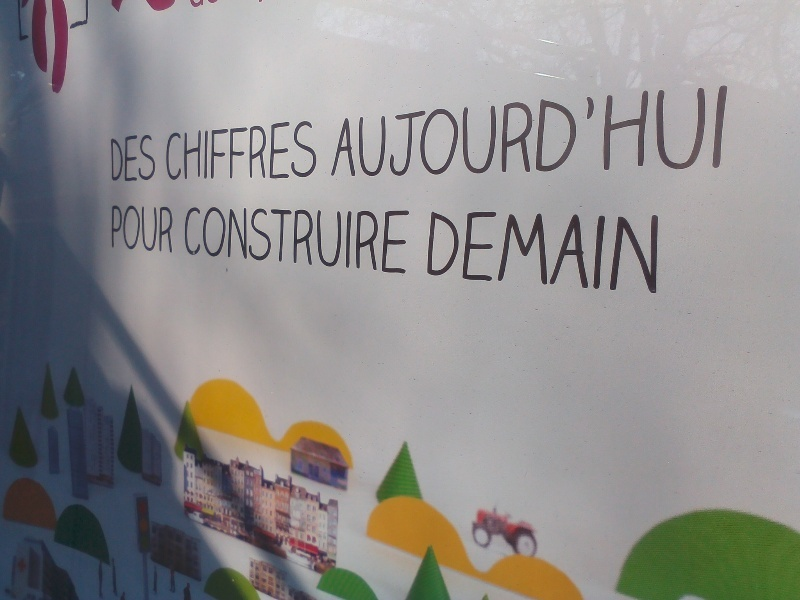text: (353, 81, 368, 183), (369, 81, 384, 183), (385, 81, 400, 183), (401, 81, 416, 183), (417, 81, 432, 183), (433, 81, 448, 183), (449, 81, 464, 183), (465, 81, 480, 183), (481, 81, 496, 183), (497, 81, 512, 183), (513, 81, 528, 183), (529, 81, 544, 183), (545, 81, 560, 183), (561, 81, 576, 183), (577, 81, 592, 183), (593, 81, 608, 183), (609, 81, 624, 183), (625, 81, 640, 183), (641, 81, 656, 183), (657, 81, 672, 183), (673, 81, 688, 183), (689, 81, 704, 183), (705, 81, 720, 183), (433, 208, 448, 298), (449, 208, 464, 298), (465, 208, 480, 298), (481, 208, 496, 298), (497, 208, 512, 298), (513, 208, 528, 298), (529, 208, 544, 298), (545, 208, 560, 298), (561, 208, 576, 298), (577, 208, 592, 298), (593, 208, 608, 298), (609, 208, 624, 298), (625, 208, 640, 298), (641, 208, 656, 298), (721, 81, 733, 183), (193, 205, 208, 279), (209, 205, 224, 279), (225, 205, 240, 279), (241, 205, 256, 279), (257, 205, 272, 279), (273, 205, 288, 279), (289, 205, 304, 279), (305, 205, 320, 279), (321, 205, 336, 279), (337, 205, 352, 279), (353, 205, 368, 279), (369, 205, 384, 279), (385, 205, 400, 279), (177, 120, 192, 182), (193, 120, 208, 182), (209, 120, 224, 182), (225, 120, 240, 182), (241, 120, 256, 182), (257, 120, 272, 182), (273, 120, 288, 182), (289, 120, 304, 182), (305, 120, 319, 182), (344, 81, 352, 183), (164, 120, 176, 182), (401, 205, 411, 279), (113, 133, 128, 182), (129, 133, 144, 182), (113, 206, 128, 254), (129, 206, 144, 254), (145, 206, 160, 254), (183, 205, 192, 279), (145, 133, 158, 182), (161, 206, 174, 254), (657, 208, 662, 298), (431, 208, 432, 298), (111, 133, 112, 182)
